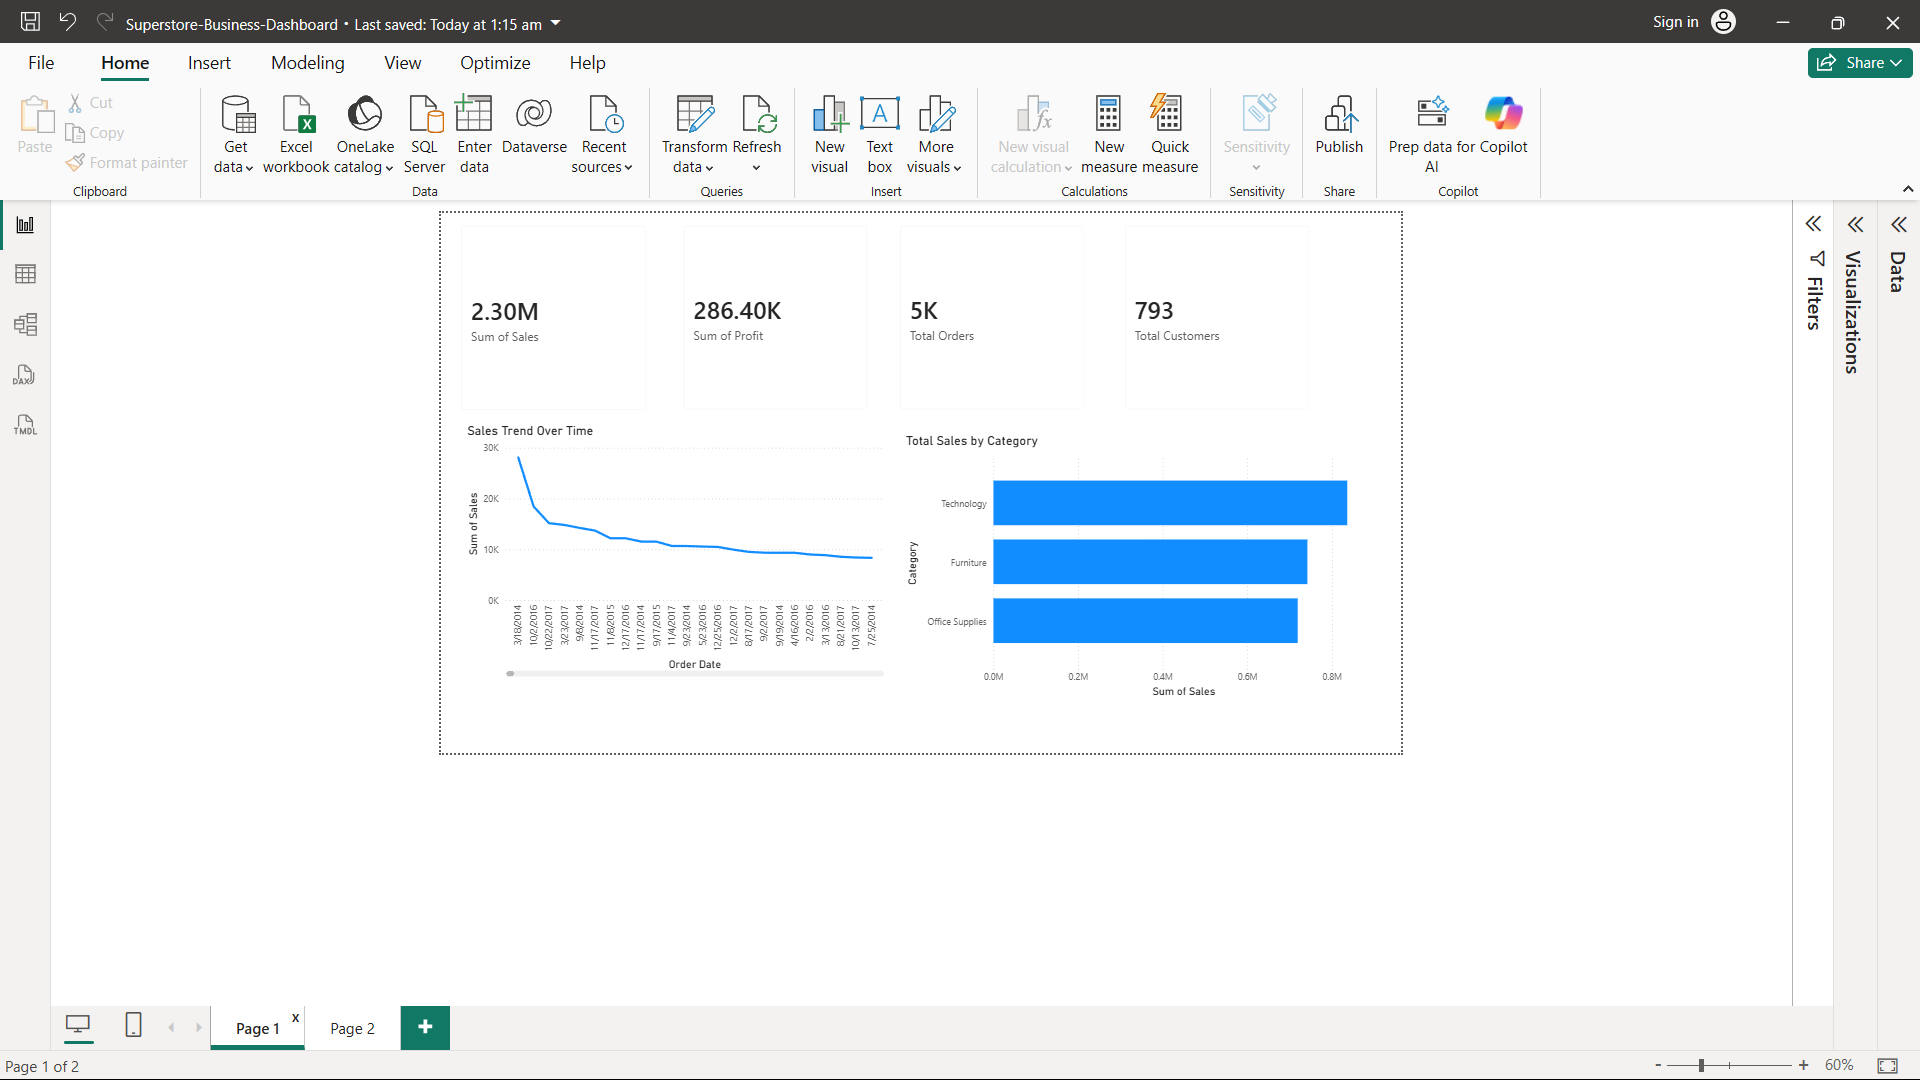

Layout of this report page (visuals, bound fields, positions):
{"tool":"powerbi","page":{"name":"Page 1","canvas":[1280,720],"ordinal":0},"visuals":[{"type":"cardVisual","fields":{"Data":["Sum(Sample - Superstore.Sales)"]},"box":[10,0,280,280],"z":0},{"type":"cardVisual","fields":{"Data":["Sum(Sample - Superstore.Profit)"]},"box":[306,0,279.9,279.9],"z":1000},{"type":"cardVisual","fields":{"Data":["Sample - Superstore.Total Orders"]},"box":[595.5,0,279.9,279.9],"z":2000},{"type":"cardVisual","fields":{"Data":["Sample - Superstore.Total Customers"]},"box":[894.7,0,279.9,279.9],"z":3000},{"type":"lineChart","title":"Sales Trend Over Time","fields":{"Category":["Sample - Superstore.Order Date"],"Y":["Sum(Sample - Superstore.Sales)"]},"box":[30,280,565.8,343.3],"z":4000},{"type":"clusteredBarChart","title":"Total Sales by Category","fields":{"Category":["Sample - Superstore.Category"],"Y":["Sum(Sample - Superstore.Sales)"]},"box":[614.3,293.6,648.6,357.8],"z":5000}]}

Visuals, with their boxes on the page's 1280x720 design canvas (x1, y1, x2, y2). These are canvas units, not pixel positions in the 1920x1080 screenshot, which may show the page scaled, cropped or inside an application window:
cardVisual - Sum(Sample - Superstore.Sales): box(10, 0, 290, 280)
cardVisual - Sum(Sample - Superstore.Profit): box(306, 0, 586, 280)
cardVisual - Sample - Superstore.Total Orders: box(596, 0, 875, 280)
cardVisual - Sample - Superstore.Total Customers: box(895, 0, 1175, 280)
"Sales Trend Over Time" lineChart: box(30, 280, 596, 623)
"Total Sales by Category" clusteredBarChart: box(614, 294, 1263, 651)
